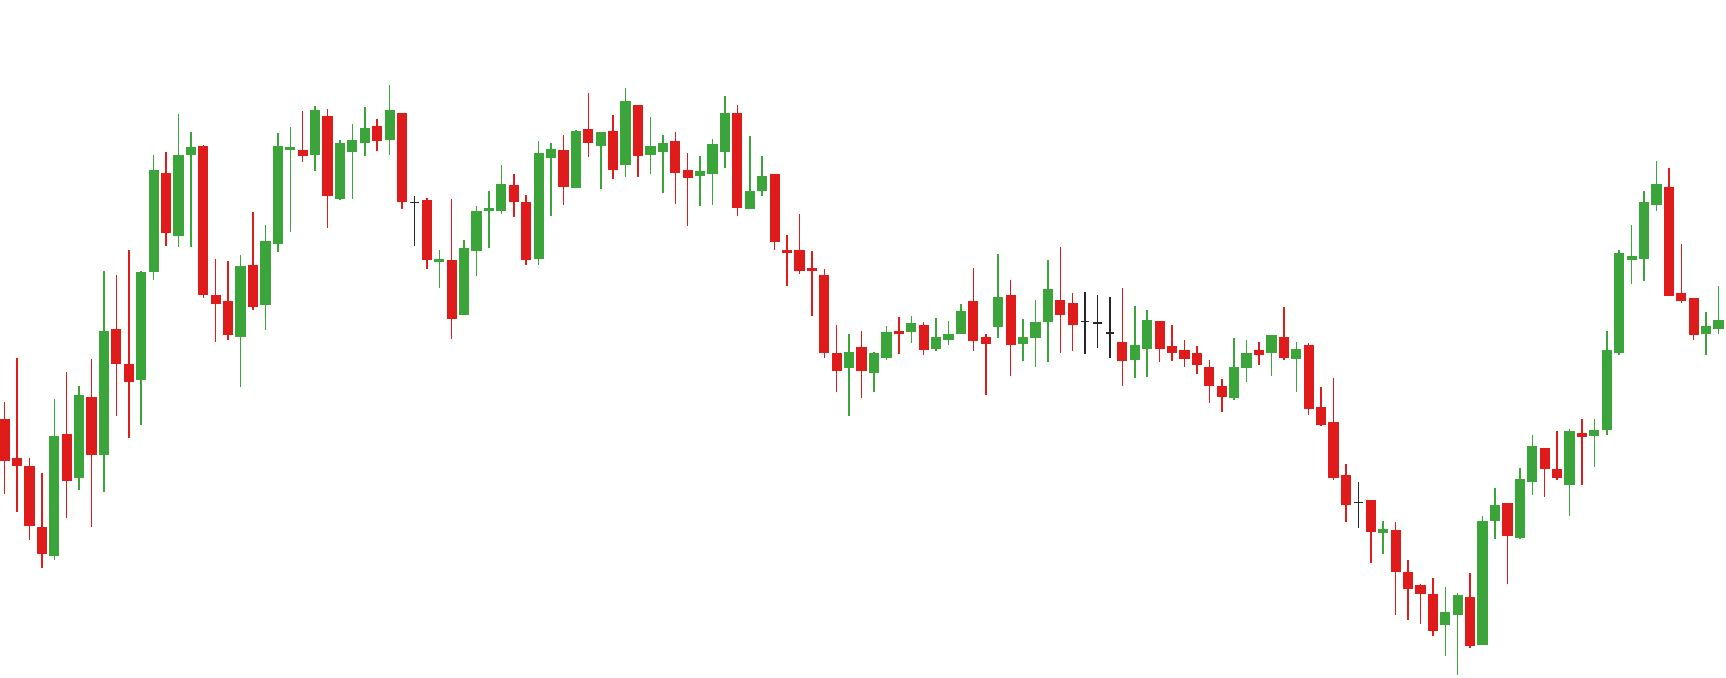sell: (669, 94, 744, 181)
